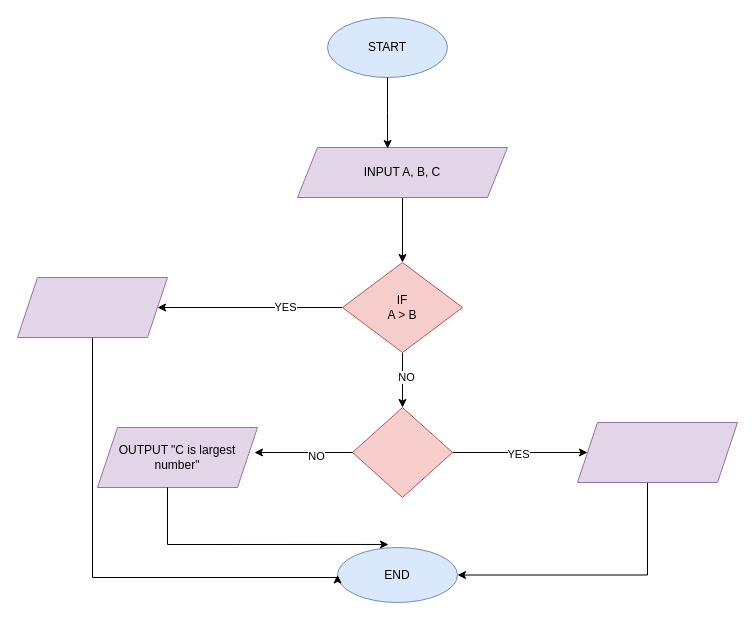
Some shapes in this 755 by 620 pixel diagram are drawn without their labels. The box of each missing label's shape, as (x1, y1, x2, y2) in pixels:
IF B > C: (352, 406, 452, 498)
OUTPUT "A is largest number": (16, 276, 168, 338)
OUTPUT "B is largest number": (576, 422, 738, 482)
